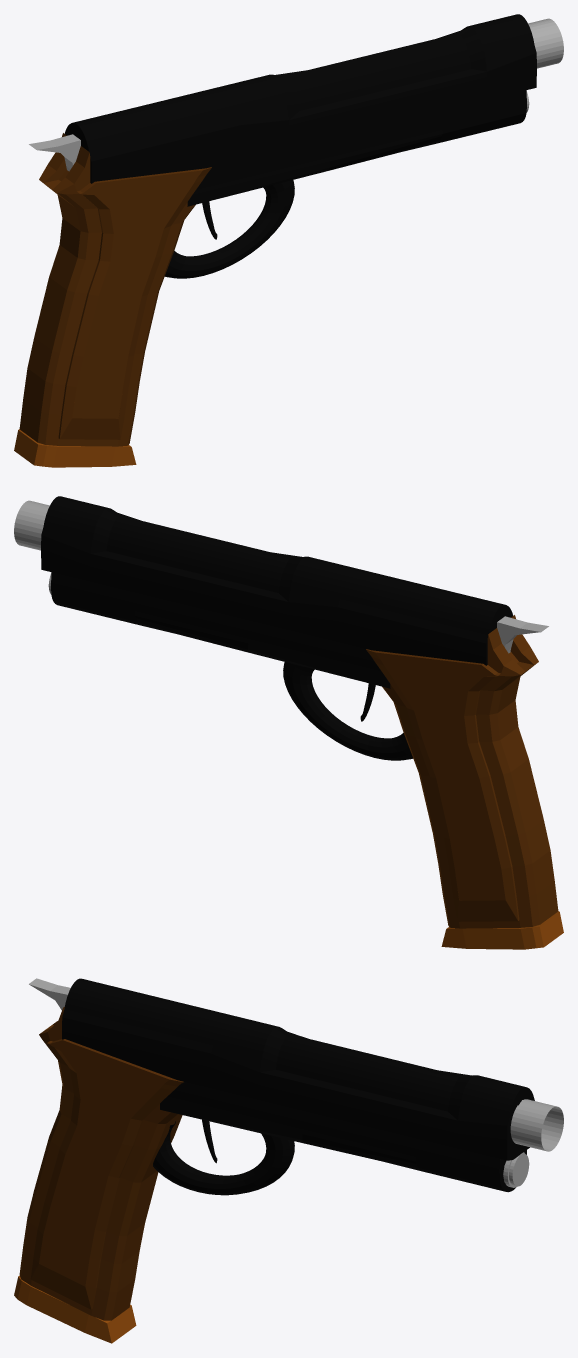
The model's file is pistol.fbx.
3 views of the same model, one above another, from view 1: azimuth 30°, elevation 25°; view 2: azimuth 150°, elevation 25°; view 3: azimuth 330°, elevation 25° (orthographic).
Visible parts, largest first — view 1: Cylinder.004, cube, Torus.001, Cube, Cylinder, Cube.001; view 2: Cylinder.004, cube, Torus.001, Cube, Cylinder, Cube.001; view 3: Cylinder.004, cube, Torus.001, Cube, Cylinder, Cube.001.
Boxes of the visible parts, x1,y1,x2,y2 form: Cylinder.004: (64,14,536,206); cube: (19,133,211,446); Torus.001: (165,180,294,278); Cube: (14,429,136,467); Cylinder: (528,18,563,68); Cube.001: (29,134,80,171); Cylinder.004: (41,496,513,688); cube: (366,615,558,928); Torus.001: (283,662,412,760); Cube: (441,911,563,949); Cylinder: (14,500,49,550); Cube.001: (497,616,548,653); Cylinder.004: (62,978,534,1192); cube: (19,1007,183,1320); Torus.001: (153,1121,294,1195); Cube: (14,1275,136,1343); Cylinder: (510,1099,563,1151); Cube.001: (29,978,70,1010).
Bounding box in the file's own units: 1288 × 801 × 140.
